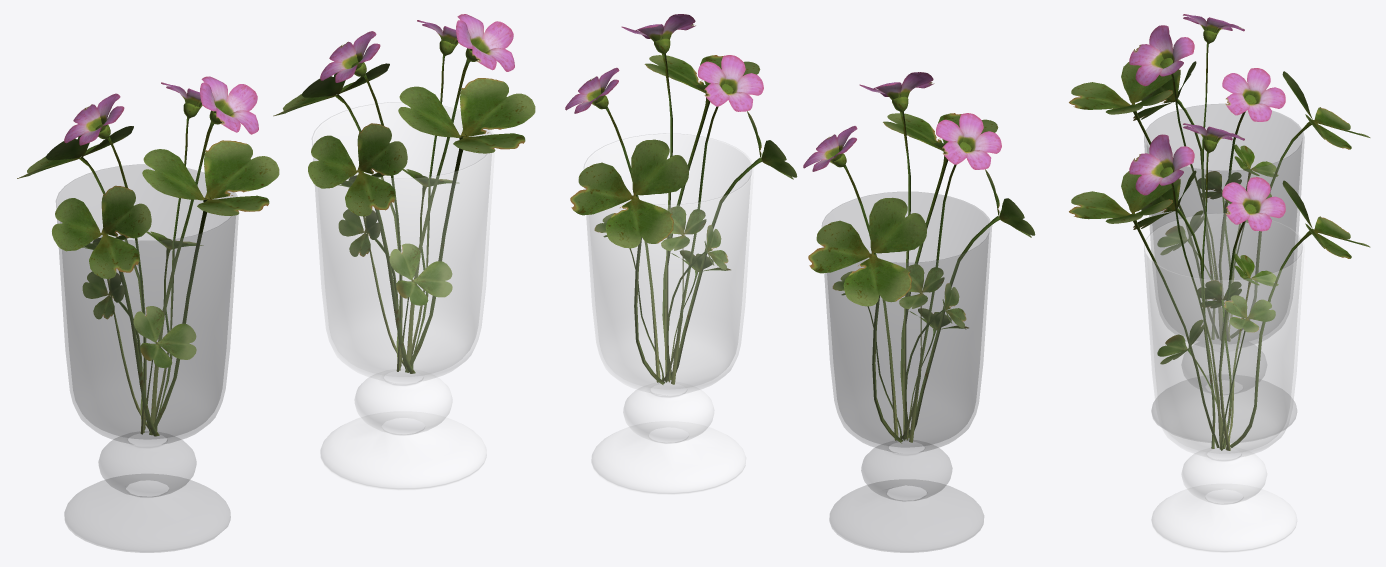
The model's file is vase.glb.
3 views of the same model, side by side, from view 1: azimuth 30°, elevation 25°; view 2: azimuth 150°, elevation 25°; view 3: azimuth 270°, elevation 25° (orthographic). The views are drawn at different scales.
Parts seen in each view (by area): view 1: GlassAlpha, GlassTransmission, Flowers2, Flowers1; view 2: GlassAlpha, GlassTransmission, Flowers2, Flowers1; view 3: GlassTransmission, GlassAlpha, Flowers2, Flowers1.
Boxes of the visible parts, x1,y1,x2,y2 form: GlassAlpha: [56, 164, 238, 552]; GlassTransmission: [312, 102, 494, 490]; Flowers2: [273, 14, 535, 373]; Flowers1: [17, 76, 279, 436]; GlassAlpha: [822, 192, 991, 552]; GlassTransmission: [584, 133, 753, 494]; Flowers2: [565, 14, 797, 384]; Flowers1: [803, 72, 1035, 443]; GlassTransmission: [1144, 213, 1304, 552]; GlassAlpha: [1144, 104, 1304, 442]; Flowers2: [1069, 123, 1370, 450]; Flowers1: [1069, 14, 1370, 341].
Bounding box in the file's own units: 0.2173 × 0.2032 × 0.1425.
Materials: 3 (1 with a texture image).
